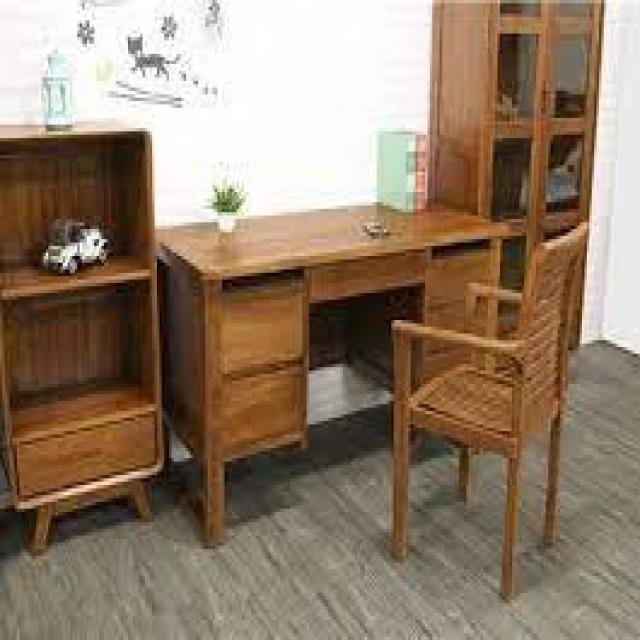table: (151, 111, 607, 603)
